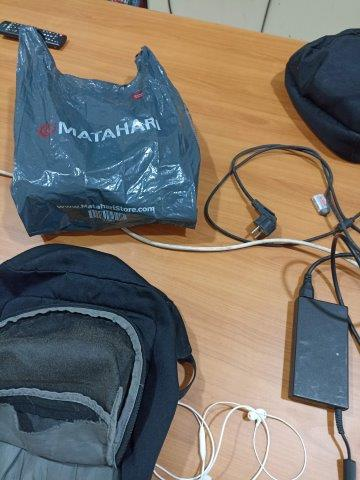plastik: (10, 25, 201, 236)
